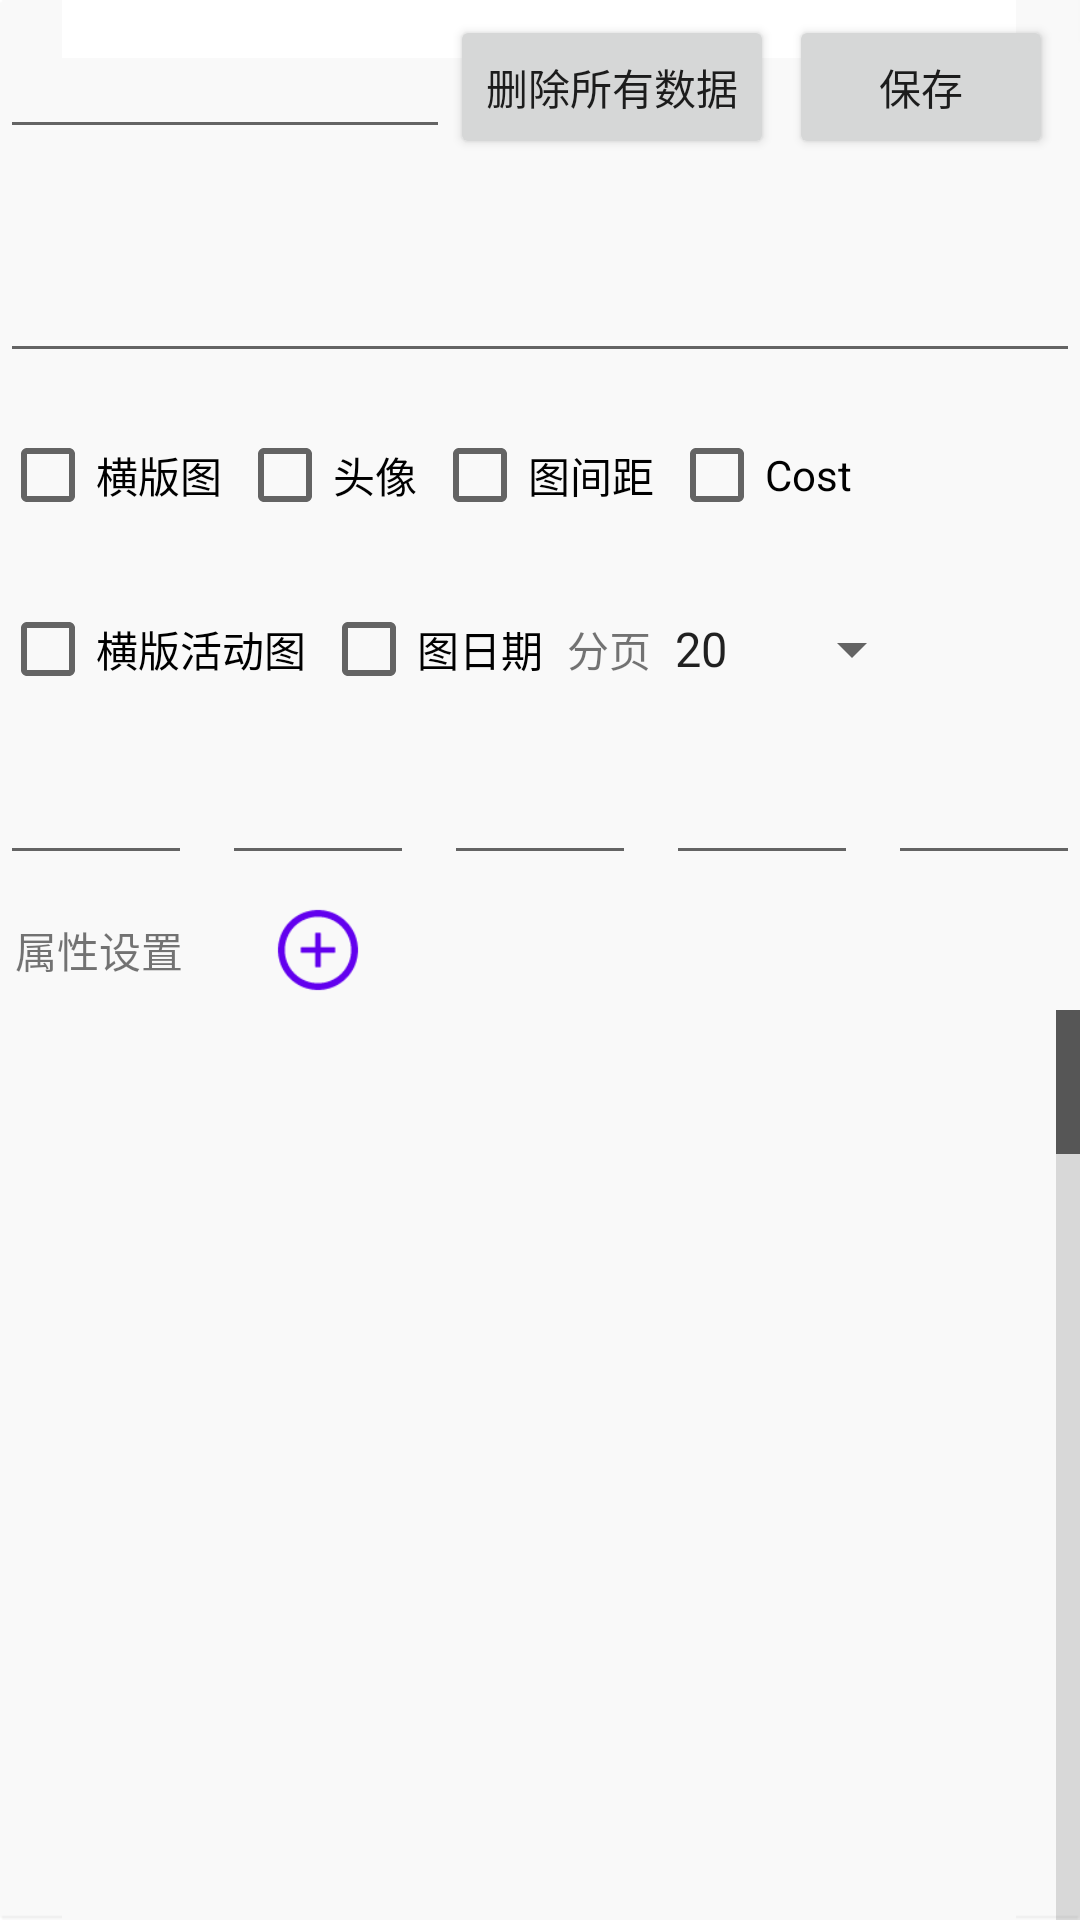

Named icons in this screenshot (1080*1920) and their bounding boxes, Rect(x1, y1, x2, y2):
add: Rect(277, 909, 359, 991)
